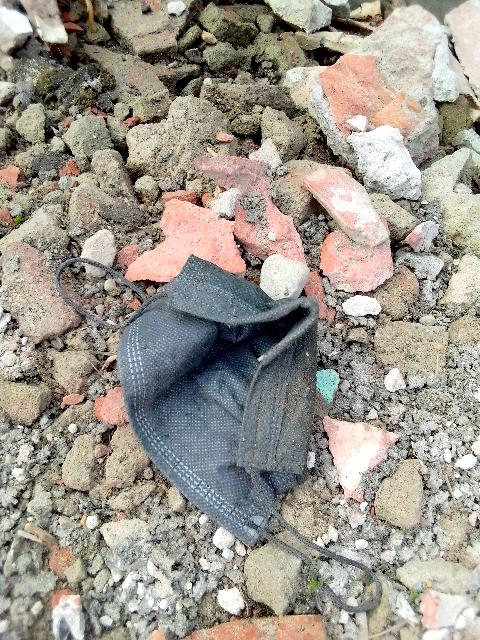mask: (132, 268, 322, 511)
